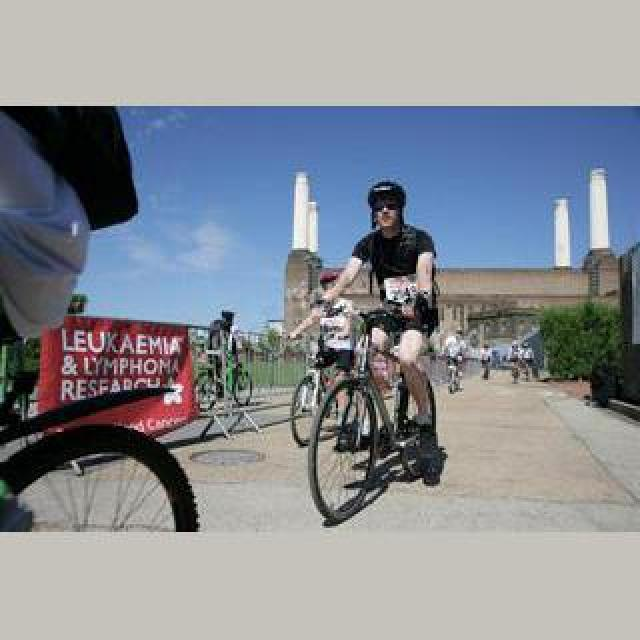MC-Bike: (320, 180, 440, 456)
Person: (306, 306, 442, 524), (288, 334, 344, 448)
